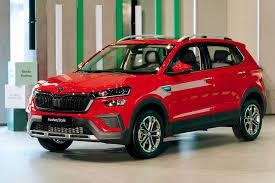skoda: (56, 83, 63, 92)
